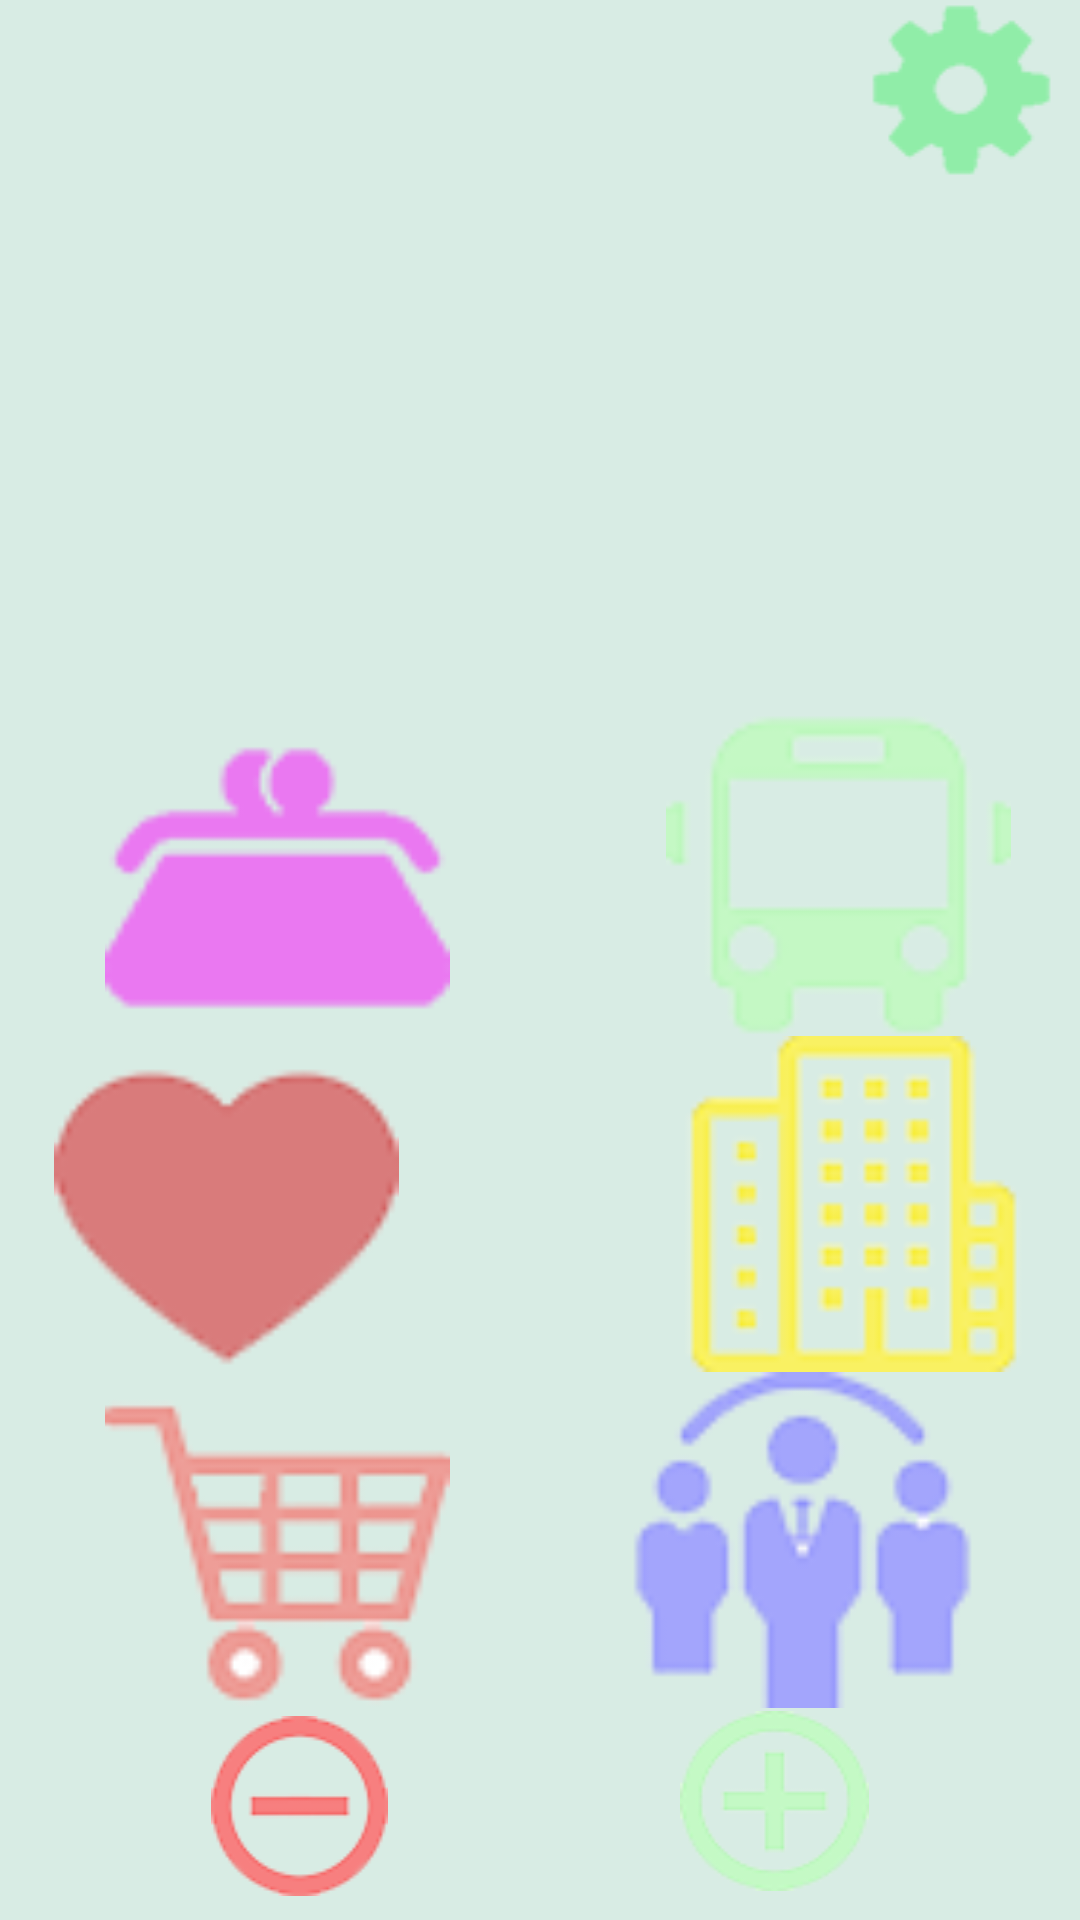

Where to tap for icons on this 1080px×1920px app screen, as point (x, y):
auto: point (838, 875)
food: point (277, 1553)
home: point (853, 1204)
job: point (802, 1561)
lovel: point (226, 1217)
minus: point (299, 1806)
money: point (277, 878)
opt: point (961, 90)
plus: point (774, 1801)
